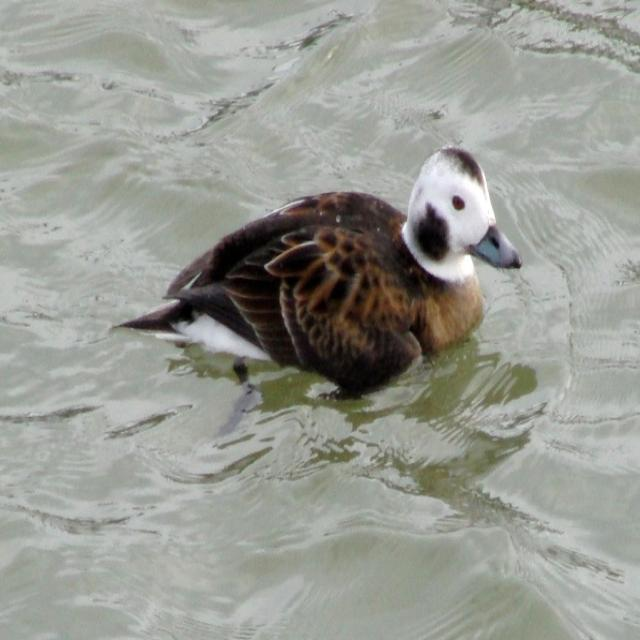bird: (126, 147, 524, 397)
